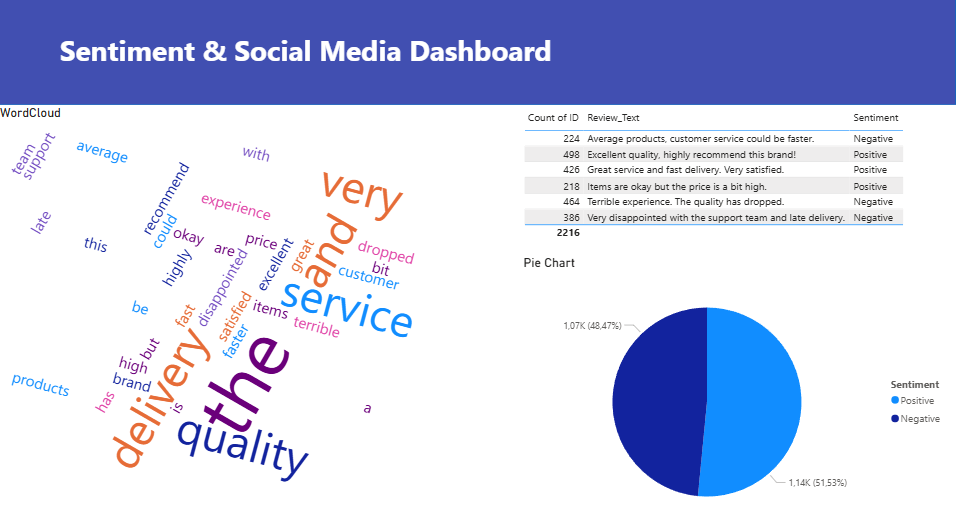

The dashboard page shown, as its layout file describes it:
{"tool":"powerbi","page":{"name":"Sentiment & Social Media Dashboard","canvas":[1280,720],"ordinal":5},"visuals":[{"type":"shape","box":[0,0,1280,146.7],"z":0},{"type":"WordCloud1447959067750","title":"WordCloud","fields":{"Category":["marketing_campaign_with_features.Cleaned_Review_Text"]},"box":[0,146.7,698.3,573.3],"z":1000},{"type":"pieChart","title":"Pie Chart","fields":{"Y":["CountNonNull(marketing_campaign_with_features.ID)"],"Category":["marketing_campaign_with_features.Sentiment"]},"box":[698.3,346.7,581.7,373.3],"z":2000},{"type":"tableEx","fields":{"Values":["CountNonNull(marketing_campaign_with_features.ID)","marketing_campaign_with_features.Review_Text","marketing_campaign_with_features.Sentiment"]},"box":[698.3,146.7,581.7,200],"z":3000},{"type":"textbox","box":[80,43.3,748.3,66.7],"z":4000}]}

Visuals, with their boxes in screenshot pixels (x1, y1, x2, y2), scaled from the page's 1280x720 canvas onto the 956x530 screenshot:
shape: crop(0, 0, 955, 108)
"WordCloud" WordCloud1447959067750: crop(0, 108, 522, 529)
"Pie Chart" pieChart: crop(522, 255, 955, 529)
tableEx - CountNonNull(marketing_campaign_with_features.ID) x marketing_campaign_with_features.Review_Text: crop(522, 108, 955, 255)
textbox: crop(60, 32, 619, 81)
